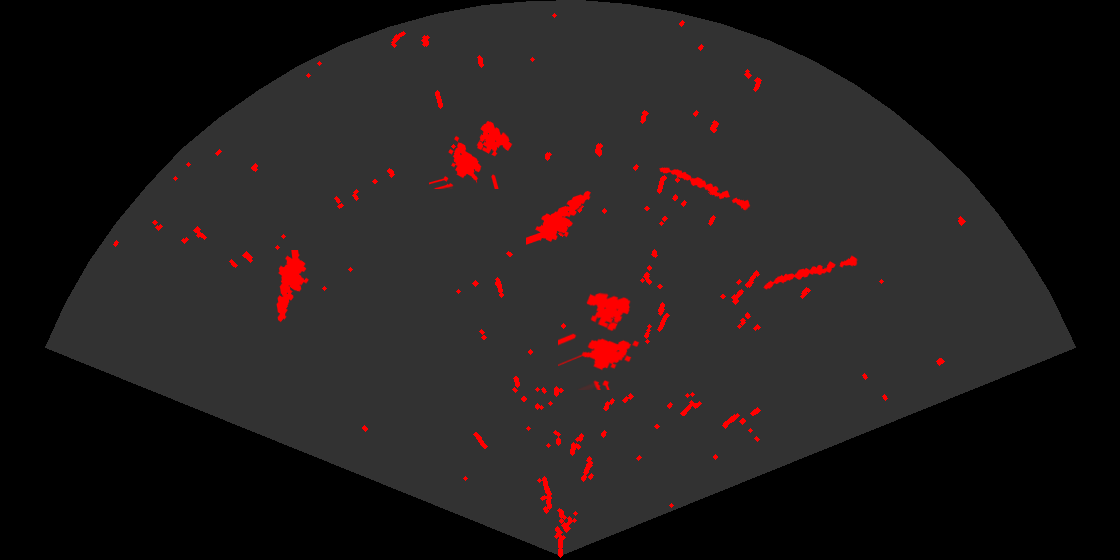cage: (558, 291, 641, 390), (429, 119, 514, 189)
chain: (658, 166, 752, 212), (762, 254, 860, 291)
frogman: (526, 189, 592, 246), (275, 250, 310, 324)
